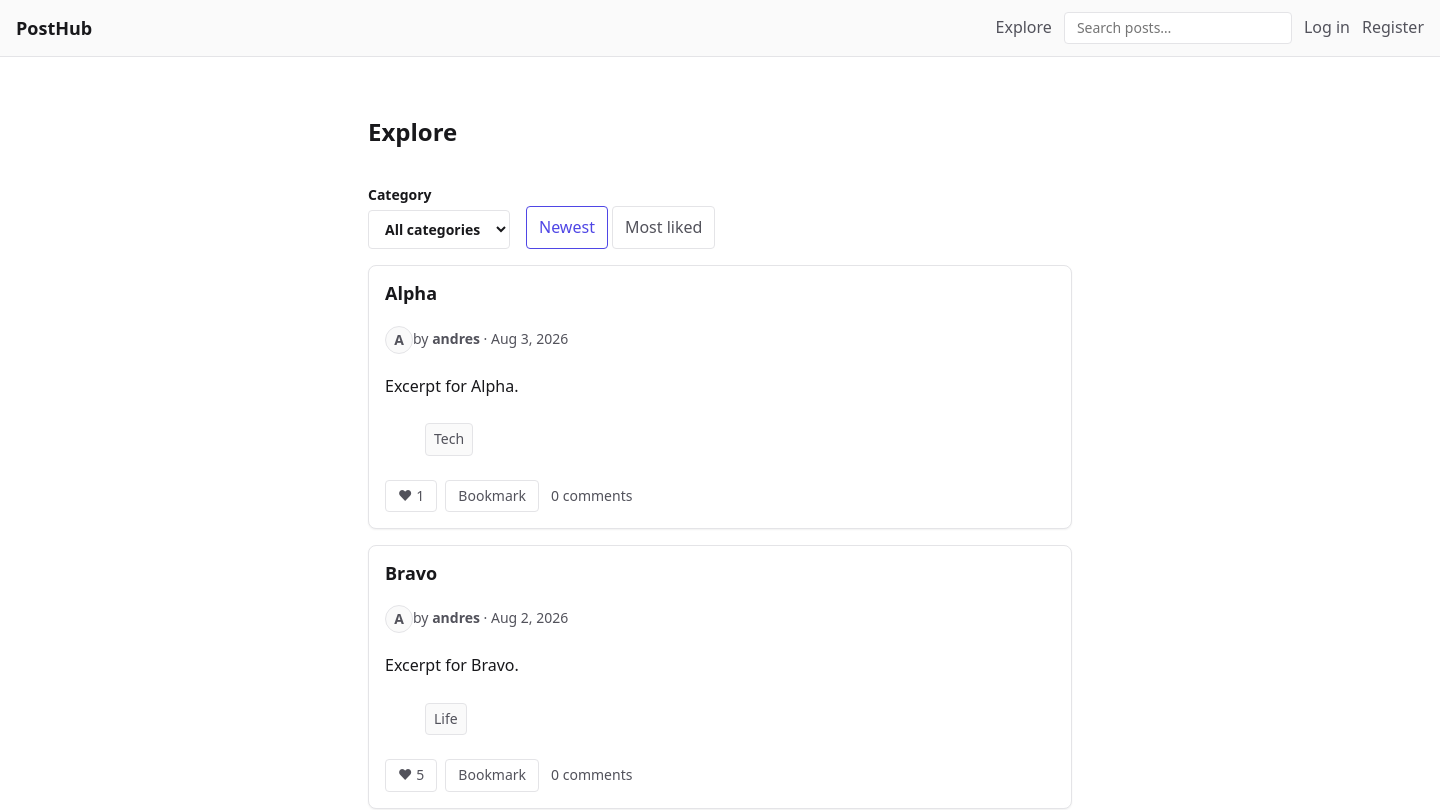
Test: engagement › sends an anonymous visitor to login on click
Check: the link "Alpha" is shown, box [385, 281, 437, 305]
Click the button named "Like" at (411, 496), box [385, 480, 437, 512]
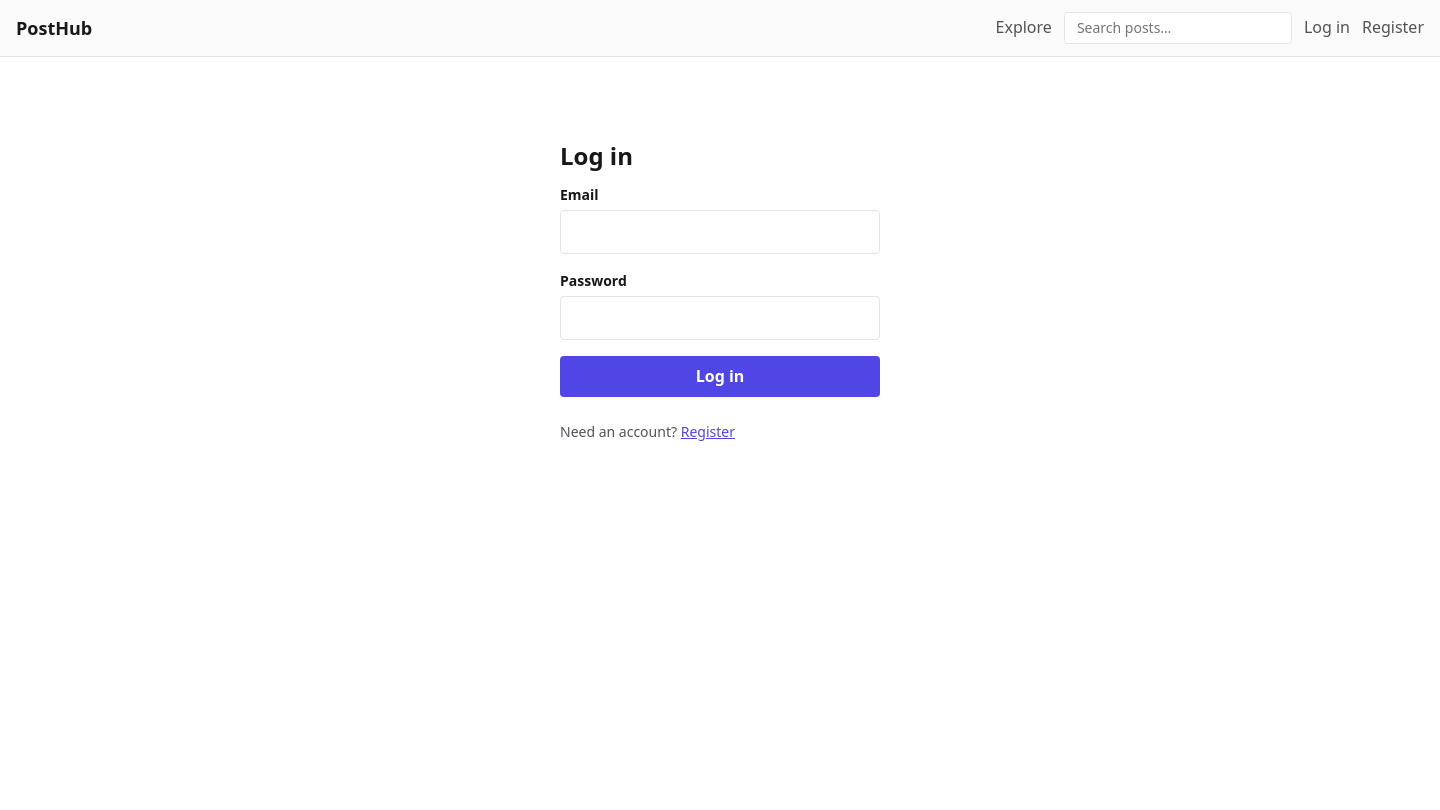
Check: the heading "Log in" is shown, box [560, 139, 633, 172]
